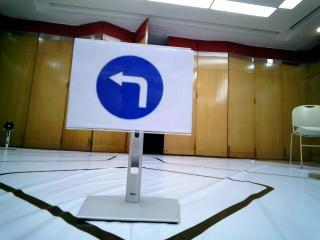left: (77, 42, 191, 132)
